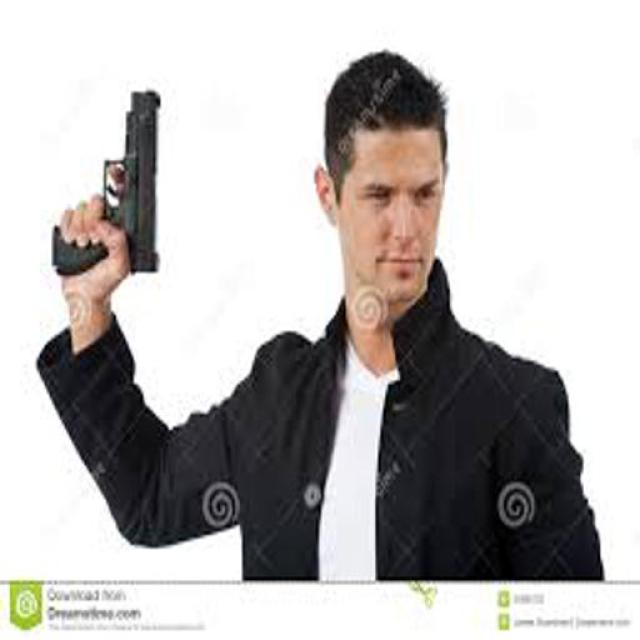pistol: (41, 71, 165, 281)
